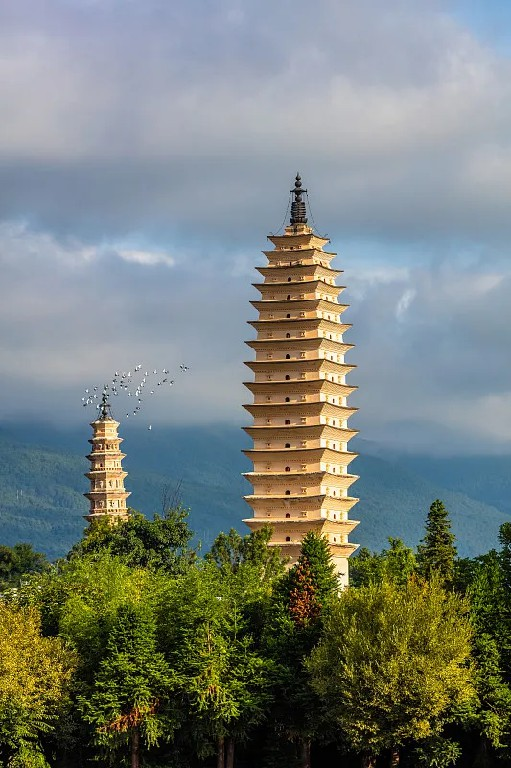ThreePagoda: (241, 173, 361, 587)
